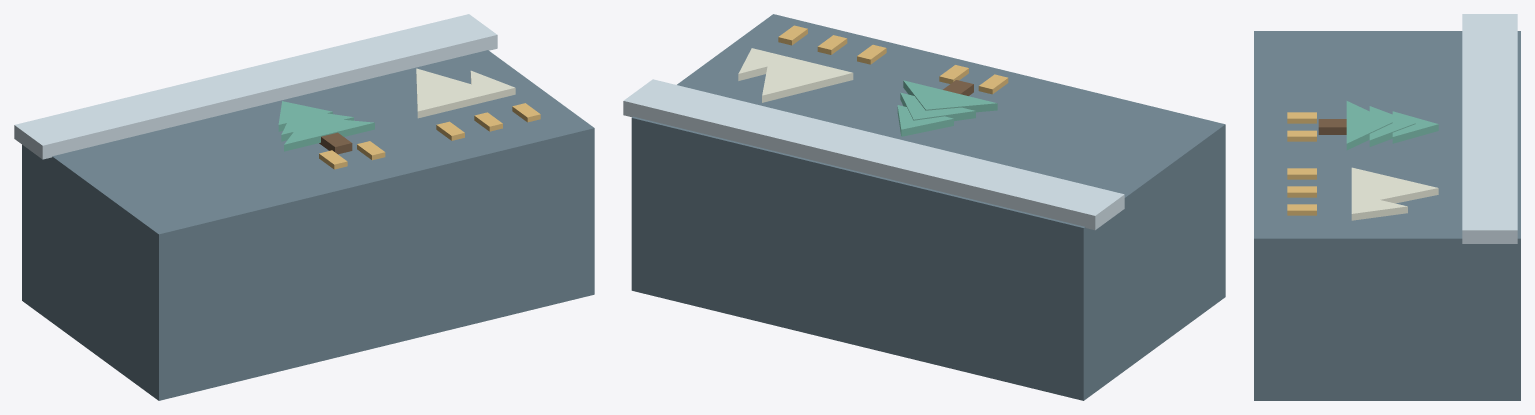
File: clue_right.glb
The picture shows the model from 3 angles, left to right: view 1: azimuth 30°, elevation 25°; view 2: azimuth 150°, elevation 25°; view 3: azimuth 270°, elevation 25°; orthographic projection. The views are drawn at different scales.
Visible parts, largest first — view 1: CarvedStone, SnowEdge, Clue_2_Mountain, Clue_1_Pine_2, Clue_1_Pine_1; view 2: CarvedStone, SnowEdge, Clue_2_Mountain, Clue_1_Pine_2, Clue_1_Pine_1, Clue_1_Pine_0; view 3: CarvedStone, SnowEdge, Clue_2_Mountain, Clue_1_Pine_2, Clue_1_Pine_1, Clue_1_Pine_0, Clue_1_Trunk, Order_1_0, Order_1_1, Order_2_0, Order_2_1, Order_2_2.
Part boxes in pixels (x1,y1,x2,y2): CarvedStone: (22,50,594,400); SnowEdge: (14,14,497,159); Clue_2_Mountain: (416,68,515,118); Clue_1_Pine_2: (284,116,374,151); Clue_1_Pine_1: (281,108,353,141); CarvedStone: (631,14,1225,400); SnowEdge: (623,79,1124,230); Clue_2_Mountain: (738,48,853,102); Clue_1_Pine_2: (903,80,997,112); Clue_1_Pine_1: (900,92,975,121); Clue_1_Pine_0: (897,105,953,136); CarvedStone: (1254,31,1520,400); SnowEdge: (1462,14,1517,243); Clue_2_Mountain: (1351,167,1438,220); Clue_1_Pine_2: (1346,101,1392,150); Clue_1_Pine_1: (1369,106,1415,146); Clue_1_Pine_0: (1392,111,1438,143); Clue_1_Trunk: (1318,119,1346,134); Order_1_0: (1287,112,1316,123); Order_1_1: (1287,130,1316,141); Order_2_0: (1287,168,1316,179); Order_2_1: (1287,186,1316,197); Order_2_2: (1287,204,1316,215).
Size of the model in its own units: 2.4 by 0.905 by 1.25.
